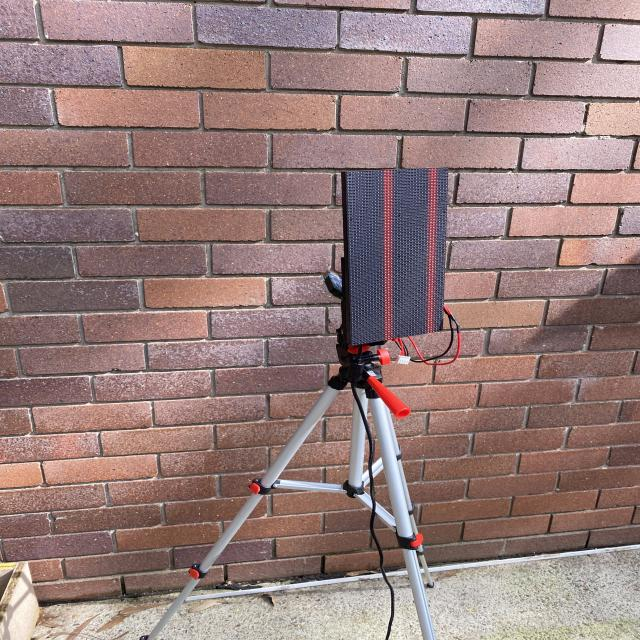matrix: (330, 158, 464, 347)
